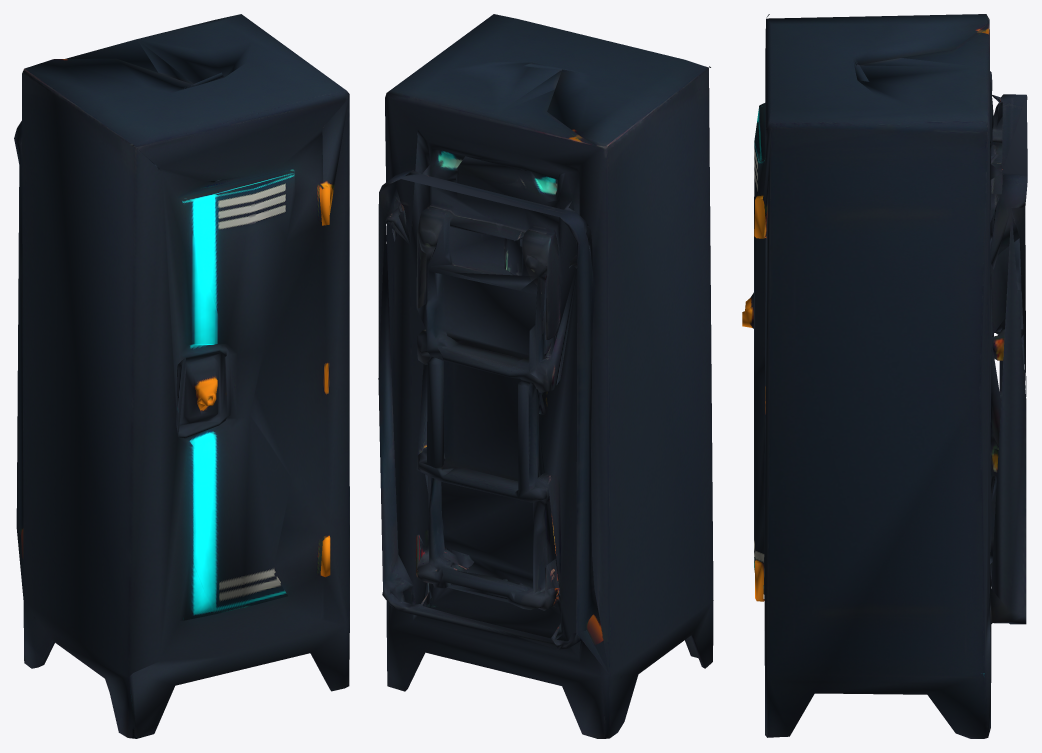
3 renders of one model, left to right at view 1: azimuth 30°, elevation 25°; view 2: azimuth 150°, elevation 25°; view 3: azimuth 270°, elevation 25°, orthographic. The views are drawn at different scales.
Bounding box in the file's own units: 0.7447 × 1.9 × 0.797.
1 material, 1 textured.
